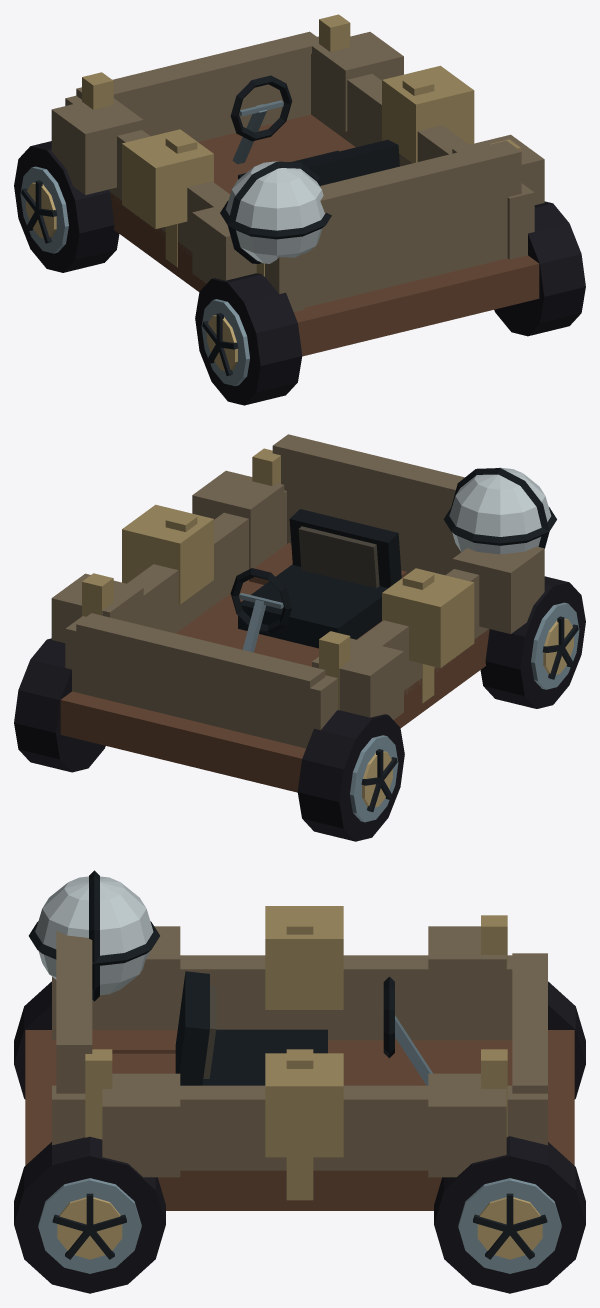
Rendered from kart.glb.
3 renders of one model, top to bottom at view 1: azimuth 30°, elevation 25°; view 2: azimuth 150°, elevation 25°; view 3: azimuth 270°, elevation 25°, orthographic. The views are drawn at different scales.
Parts seen in each view (by area): view 1: identity-wagon-wagon-timber-coach, identity-wagon-motif-blocks, wheel-rear-left, wheel-front-left, identity-wagon-motif-ball, wheel-rear-right, identity-wagon-driver-cockpit; view 2: identity-wagon-wagon-timber-coach, identity-wagon-motif-blocks, identity-wagon-driver-cockpit, wheel-front-left, wheel-rear-left, identity-wagon-motif-ball, wheel-front-right; view 3: identity-wagon-wagon-timber-coach, identity-wagon-motif-blocks, wheel-rear-right, wheel-front-right, identity-wagon-driver-cockpit, identity-wagon-motif-ball, wheel-front-left, wheel-rear-left.
Part boxes in pixels (x1,y1,x2,y2): identity-wagon-wagon-timber-coach: [65, 14, 539, 356]; identity-wagon-motif-blocks: [51, 32, 544, 283]; wheel-rear-left: [195, 273, 302, 405]; wheel-front-left: [14, 141, 119, 272]; identity-wagon-motif-ball: [220, 161, 331, 263]; wheel-rear-right: [494, 201, 585, 336]; identity-wagon-driver-cockpit: [230, 75, 399, 185]; identity-wagon-wagon-timber-coach: [60, 434, 489, 792]; identity-wagon-motif-blocks: [51, 470, 544, 719]; identity-wagon-driver-cockpit: [230, 509, 401, 652]; wheel-front-left: [297, 710, 404, 841]; wheel-rear-left: [480, 576, 585, 708]; identity-wagon-motif-ball: [443, 467, 556, 554]; wheel-front-right: [14, 638, 105, 772]; identity-wagon-wagon-timber-coach: [25, 915, 574, 1210]; identity-wagon-motif-blocks: [102, 906, 506, 1177]; wheel-rear-right: [14, 1136, 165, 1293]; wheel-front-right: [434, 1136, 585, 1293]; identity-wagon-driver-cockpit: [175, 971, 432, 1085]; identity-wagon-motif-ball: [28, 870, 159, 1001]; wheel-front-left: [548, 981, 585, 1099]; wheel-rear-left: [14, 981, 51, 1099].
Bounding box in the file's own units: 2.07 × 1.29 × 2.56.
